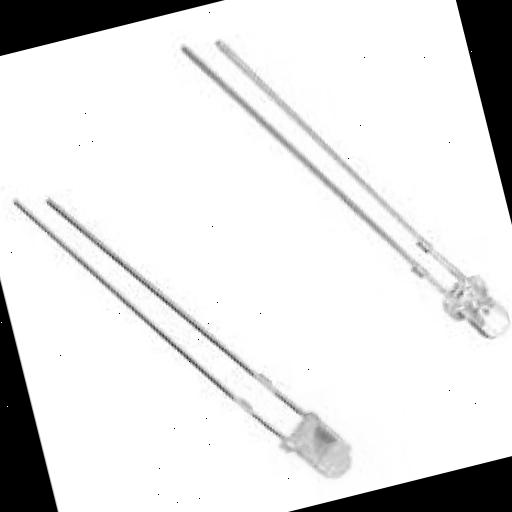LED: (0, 105, 408, 512), (171, 0, 512, 408)
